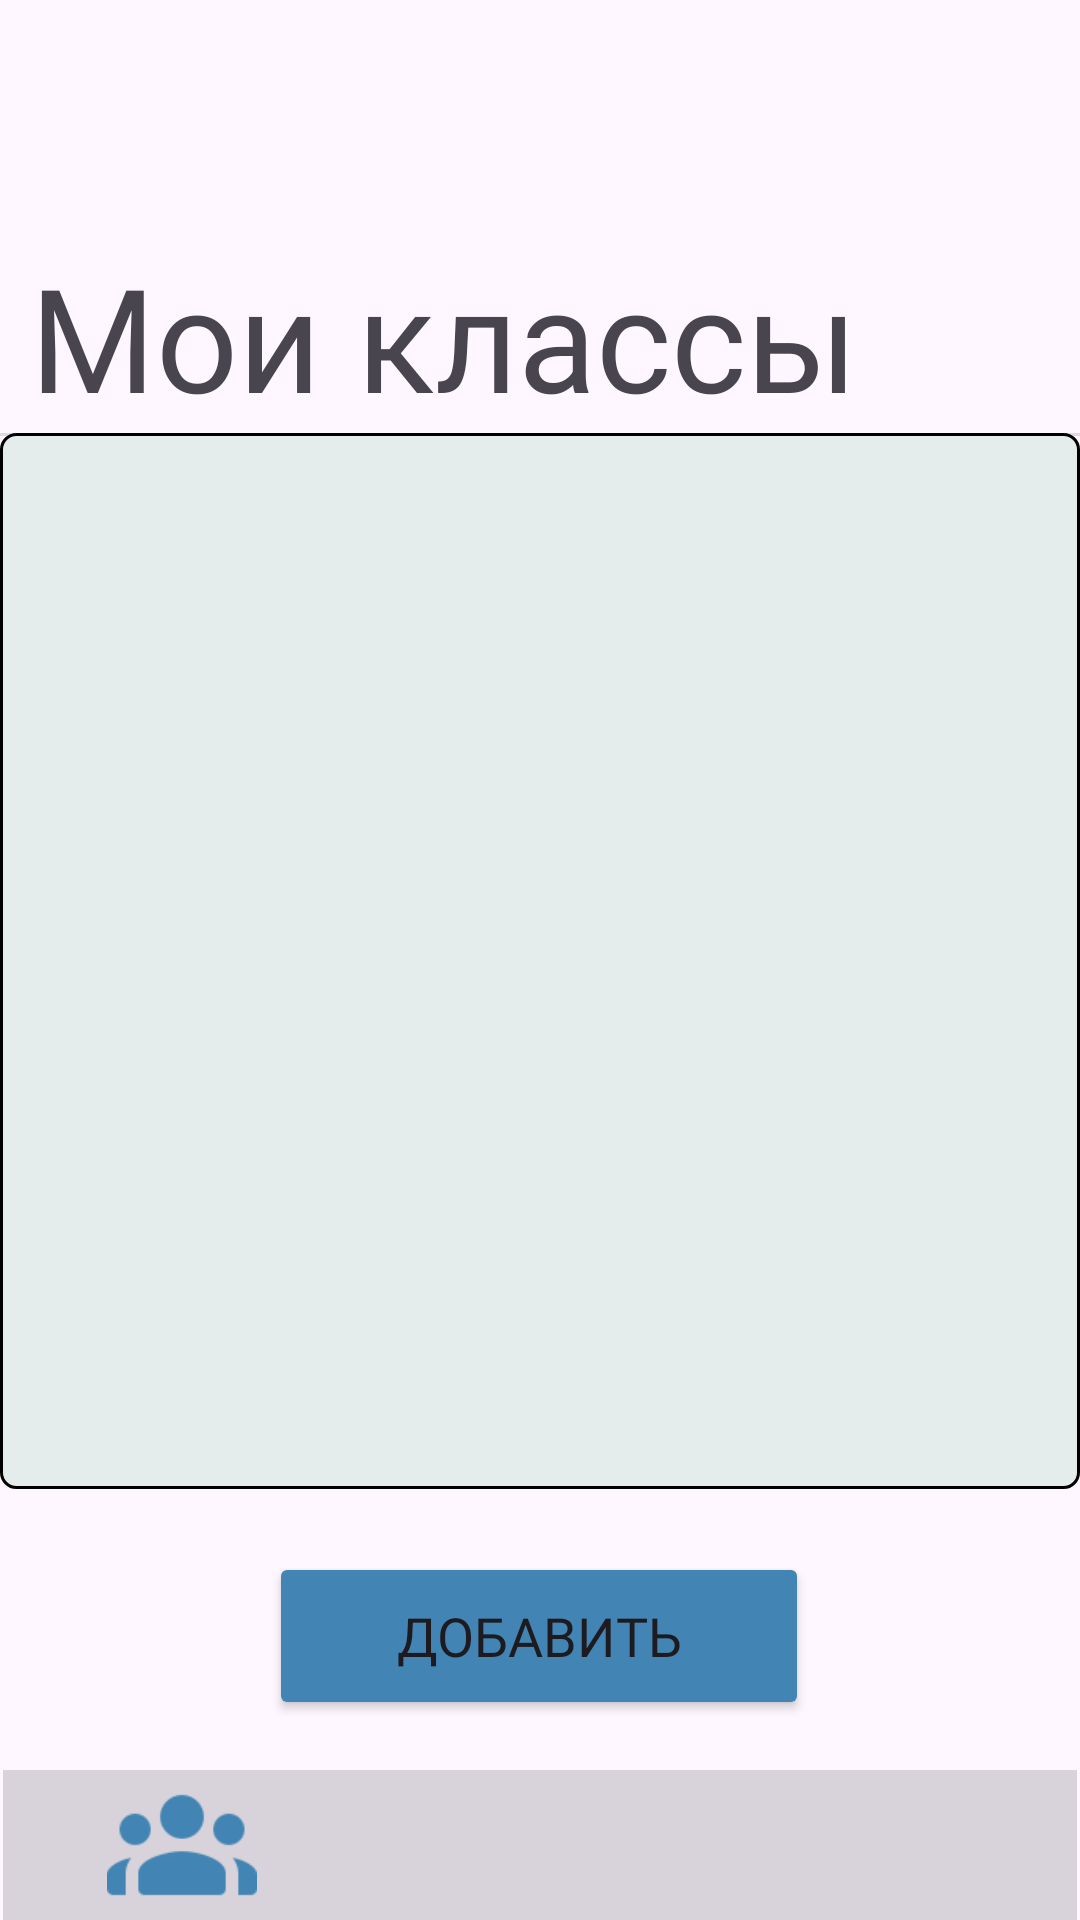

Screen size 1080px×1920px. Icon name, then its box in pixels as region(x1, y1, x2, y2):
people lightblue: region(107, 1794, 257, 1896)
